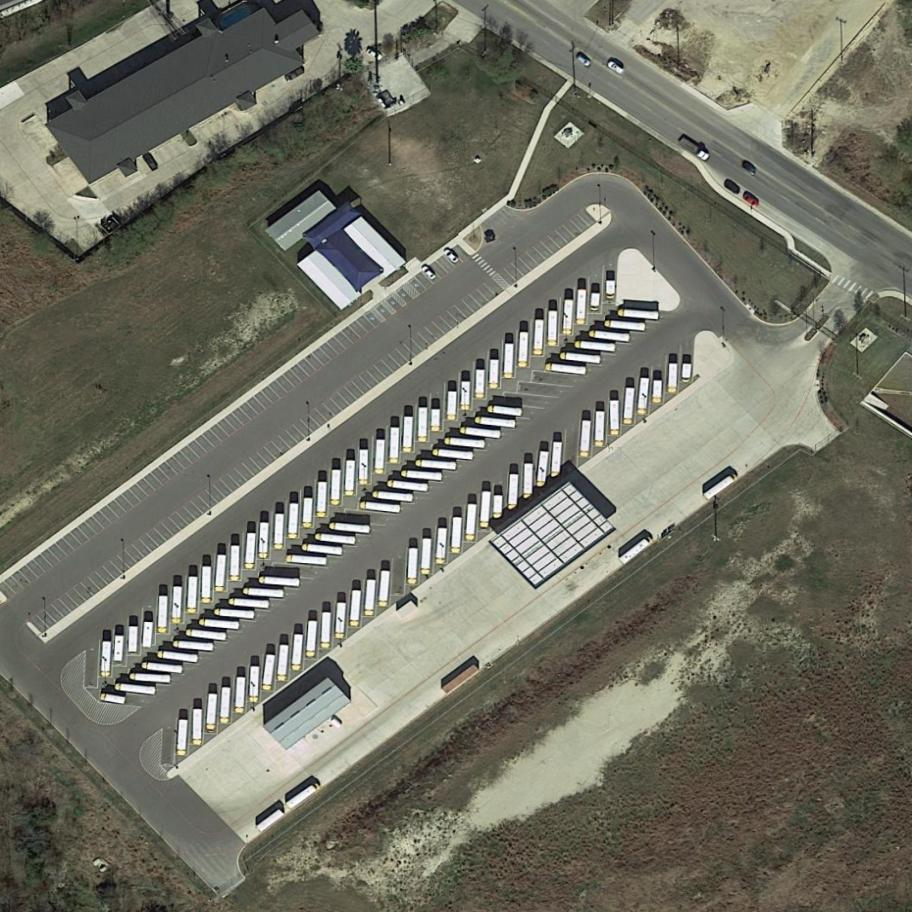large-vehicle: (619, 534, 656, 567), (702, 470, 739, 501), (286, 780, 323, 811), (679, 135, 712, 163), (256, 808, 285, 835), (475, 415, 517, 429), (464, 503, 479, 542), (434, 527, 449, 566), (588, 329, 632, 342), (262, 654, 277, 692), (386, 479, 429, 492), (333, 602, 348, 639), (141, 661, 183, 674), (157, 650, 199, 663), (636, 377, 650, 416), (480, 491, 494, 529), (603, 319, 647, 331), (623, 386, 636, 426), (536, 451, 550, 488), (291, 634, 305, 671), (443, 437, 486, 449), (185, 629, 228, 641), (301, 543, 344, 555), (560, 351, 603, 363), (234, 676, 247, 715), (330, 522, 372, 534), (359, 502, 401, 514), (432, 448, 474, 460), (460, 427, 502, 439), (315, 533, 357, 545), (487, 404, 525, 417), (277, 645, 290, 683), (306, 621, 319, 659), (546, 363, 587, 375), (206, 693, 218, 734), (215, 555, 228, 592), (129, 672, 172, 683), (259, 576, 302, 587), (617, 308, 660, 319), (350, 589, 362, 628), (379, 571, 392, 607), (401, 470, 443, 481), (115, 683, 157, 694), (198, 619, 240, 630), (213, 608, 255, 619), (286, 555, 328, 566), (575, 340, 617, 351), (508, 473, 520, 511), (220, 687, 232, 725), (373, 491, 414, 502), (245, 533, 257, 570), (533, 319, 545, 356), (551, 442, 563, 479), (249, 666, 261, 703), (365, 579, 377, 616), (330, 470, 342, 506), (187, 577, 199, 613), (451, 518, 463, 554), (421, 539, 433, 575), (563, 299, 575, 335), (172, 641, 215, 651), (192, 708, 203, 747), (415, 460, 457, 470), (229, 598, 271, 608), (243, 588, 285, 598), (610, 400, 622, 435), (523, 463, 534, 501), (581, 420, 592, 458), (321, 611, 332, 649), (157, 596, 168, 633), (201, 566, 212, 603), (345, 460, 356, 496), (288, 503, 299, 539), (518, 332, 529, 368), (177, 720, 188, 756), (101, 641, 112, 677), (317, 482, 328, 517), (359, 450, 370, 485), (504, 344, 515, 379), (418, 408, 429, 442), (172, 587, 182, 624), (409, 548, 419, 585), (390, 428, 400, 464), (404, 417, 414, 453), (230, 545, 240, 581), (259, 523, 269, 559), (577, 289, 587, 325), (376, 440, 386, 475), (595, 412, 605, 447), (548, 311, 558, 346), (460, 382, 472, 411), (668, 364, 680, 393), (275, 513, 284, 550), (303, 498, 314, 528), (142, 621, 154, 648), (489, 360, 500, 389), (113, 636, 125, 662), (448, 392, 458, 421), (476, 370, 486, 398), (129, 627, 138, 655)
small-vehicle: (740, 191, 761, 211), (283, 66, 306, 84), (141, 152, 160, 173), (605, 59, 626, 77), (722, 178, 742, 196), (442, 247, 460, 265), (740, 160, 758, 176), (421, 264, 437, 281), (576, 53, 593, 68), (365, 48, 383, 62)
